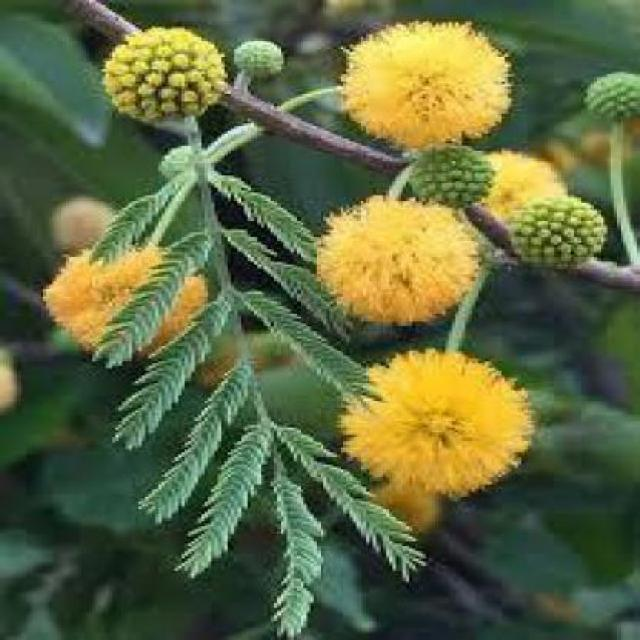flower: (326, 355, 565, 527), (302, 205, 496, 309), (345, 29, 506, 143)
